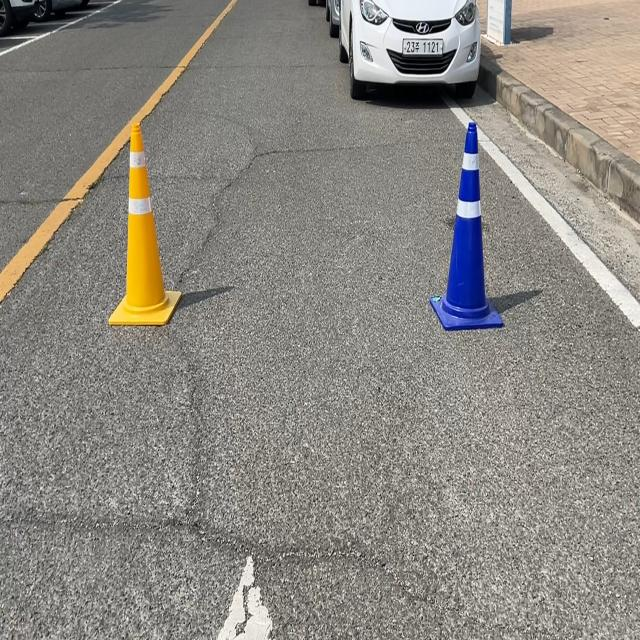b_rub: (431, 120, 504, 329)
y_rub: (108, 121, 181, 325)
